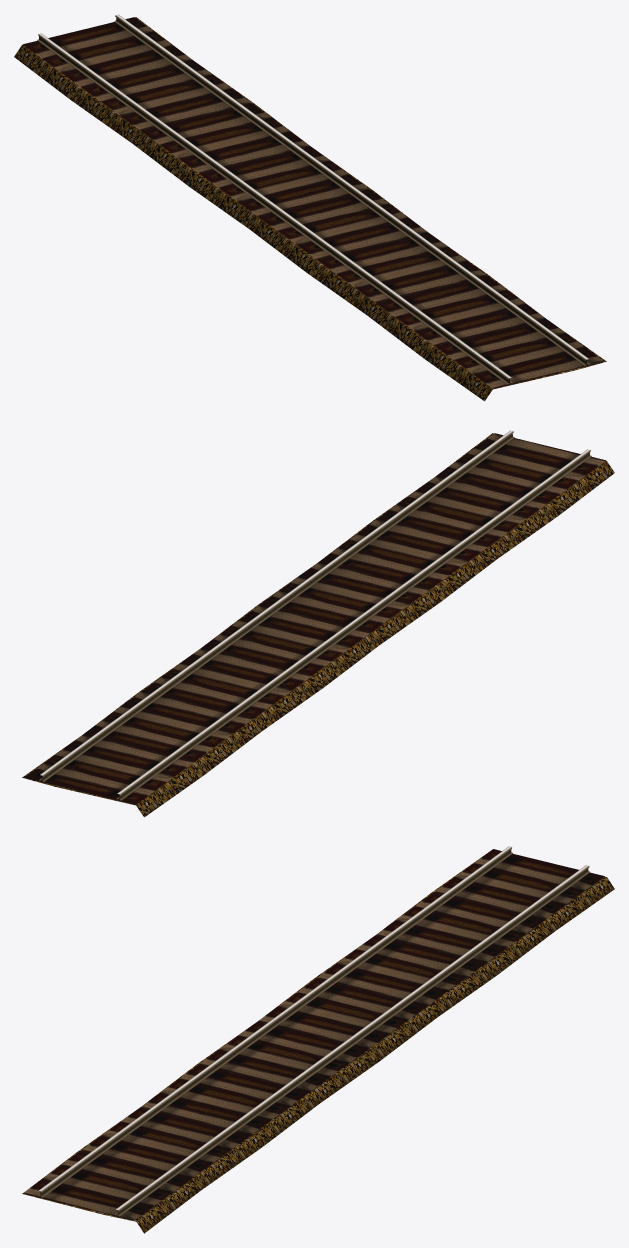
File: K_1RAIL50.glb
The picture shows the model from 3 angles, top to bottom: view 1: azimuth 30°, elevation 25°; view 2: azimuth 150°, elevation 25°; view 3: azimuth 330°, elevation 25°; orthographic projection.
Parts seen in each view (by area): view 1: Rail; view 2: Rail; view 3: Rail.
Boxes of the visible parts, x1,y1,x2,y2 form: Rail: [14, 14, 606, 401]; Rail: [22, 430, 614, 817]; Rail: [22, 846, 614, 1233].
Bounding box in the file's own units: 8.09 × 1.01 × 50.
3 materials, 3 textured.
